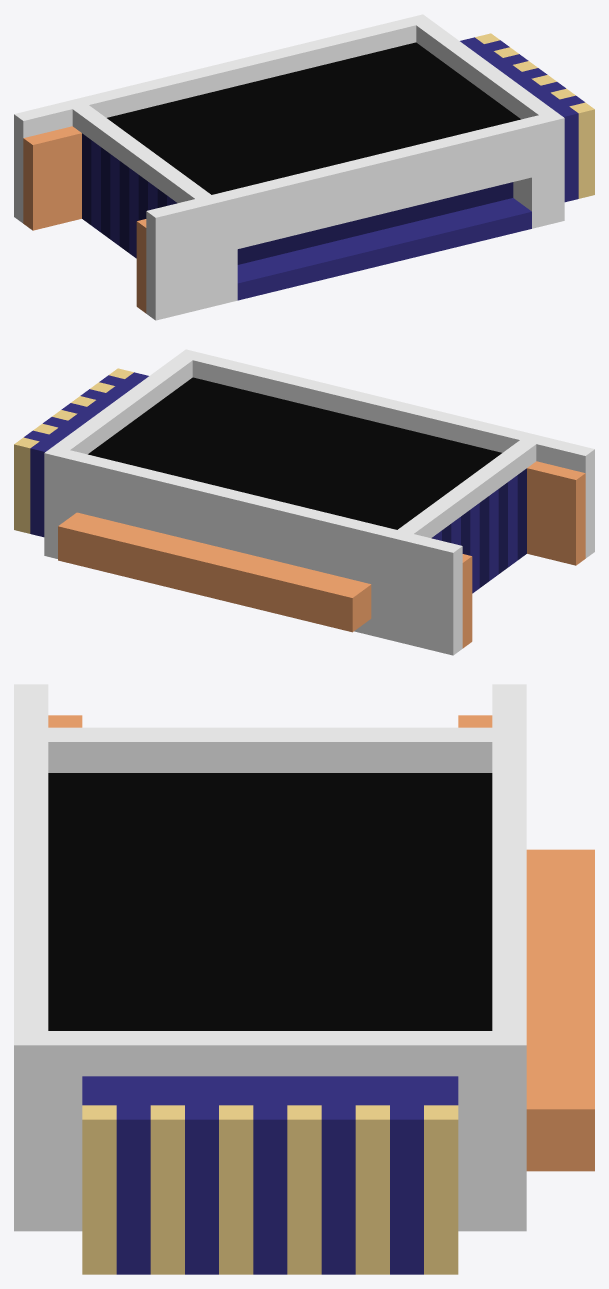
Rendered from Bloque.fbx.
The picture shows the model from 3 angles, top to bottom: view 1: azimuth 30°, elevation 25°; view 2: azimuth 150°, elevation 25°; view 3: azimuth 270°, elevation 25°; orthographic projection. The views are drawn at different scales.
Parts seen in each view (by area): view 1: Cuerpo, Entrada Izq, Salida Abajo, Salida Der; view 2: Cuerpo, Entrada Izq, Entrada Arr, Salida Der; view 3: Cuerpo, Salida Der, Entrada Arr, Entrada Izq.
Part boxes in pixels (<box>): Cuerpo: <box>80,18,548,304</box>; Entrada Izq: <box>14,98,221,320</box>; Salida Abajo: <box>237,177,531,300</box>; Salida Der: <box>407,14,594,224</box>; Cuerpo: <box>60,353,528,639</box>; Entrada Izq: <box>387,433,594,655</box>; Entrada Arr: <box>58,512,371,632</box>; Salida Der: <box>14,349,201,558</box>; Cuerpo: <box>14,742,526,1030</box>; Salida Der: <box>14,1031,526,1274</box>; Entrada Arr: <box>526,849,594,1171</box>; Entrada Izq: <box>14,684,526,741</box>.
Size of the model in its own units: 2.8 by 0.6 by 1.7.
